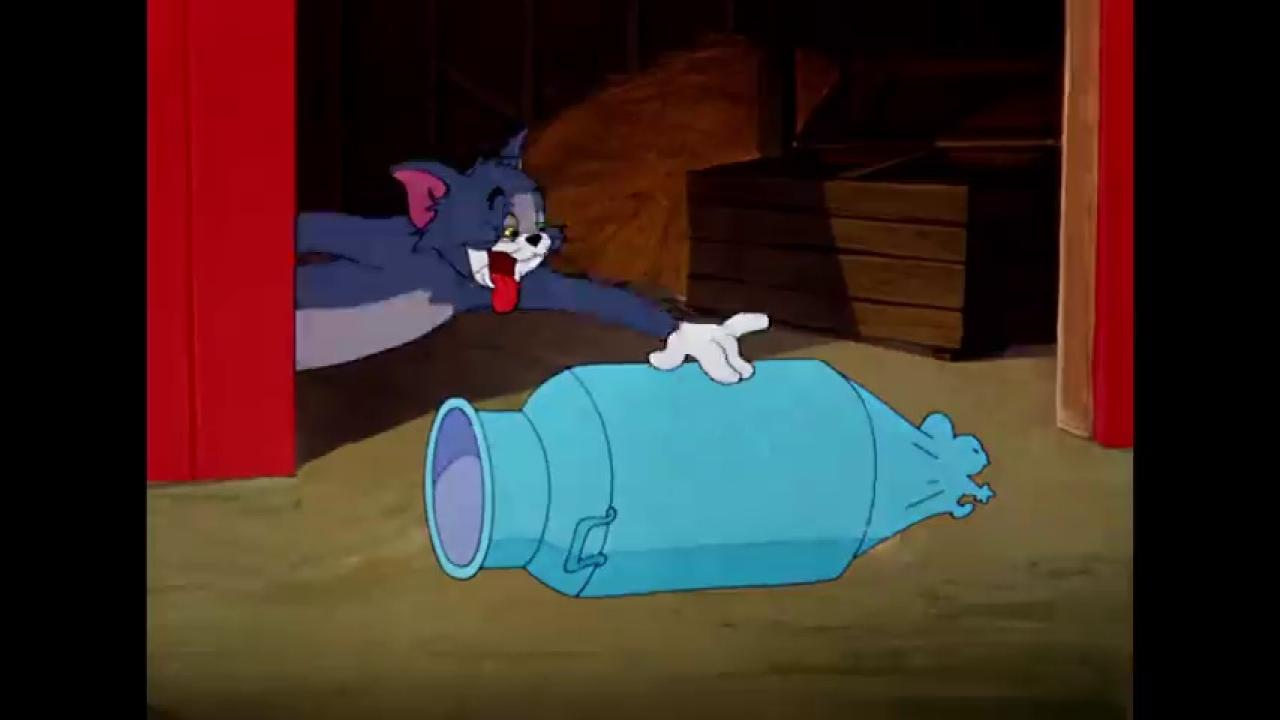Tom: (295, 125, 776, 391)
